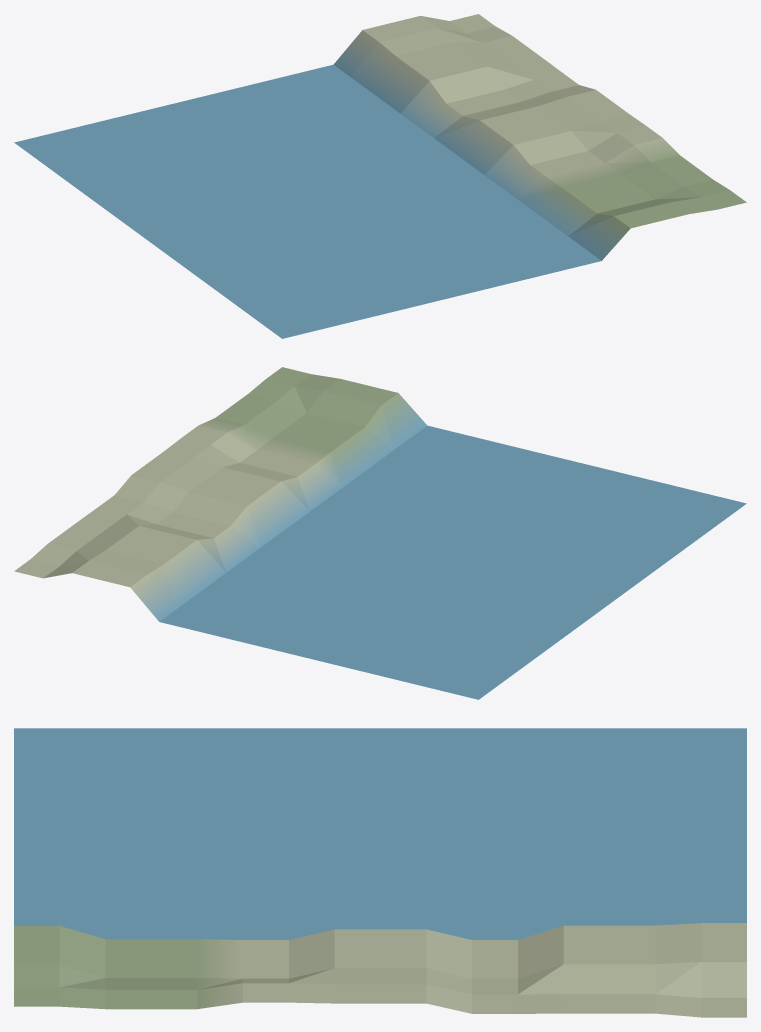
3 views of the same model, one above another, from view 1: azimuth 30°, elevation 25°; view 2: azimuth 150°, elevation 25°; view 3: azimuth 270°, elevation 25° (orthographic). The views are drawn at different scales.
Bounding box in the file's own units: 32 × 1.81 × 32.
